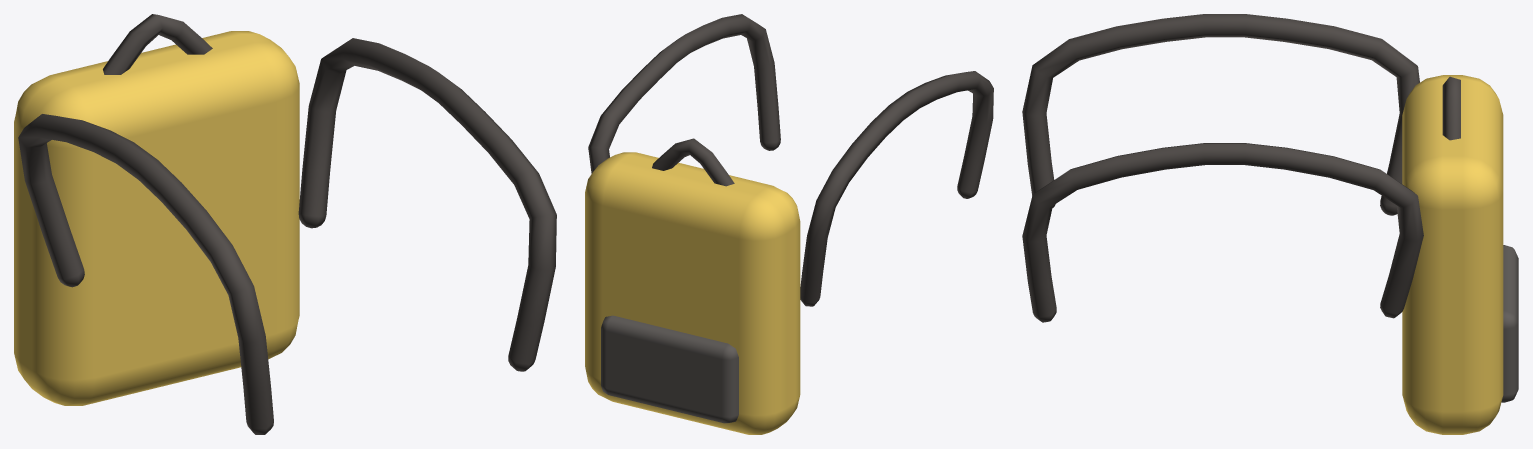
File: dry_bag.glb
The picture shows the model from 3 angles, left to right: view 1: azimuth 30°, elevation 25°; view 2: azimuth 150°, elevation 25°; view 3: azimuth 270°, elevation 25°; orthographic projection. The views are drawn at different scales.
Visible parts, largest first — view 1: dry_bag_Body; view 2: dry_bag_Body; view 3: dry_bag_Body.
Boxes of the visible parts, x1,y1,x2,y2 form: dry_bag_Body: (14,14,556,434); dry_bag_Body: (585,14,993,434); dry_bag_Body: (1022,14,1518,434).
Bounding box in the file's own units: 0.327 × 0.3445 × 0.4902.
